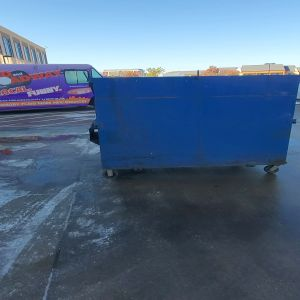Dumpster: (89, 78, 300, 183)
